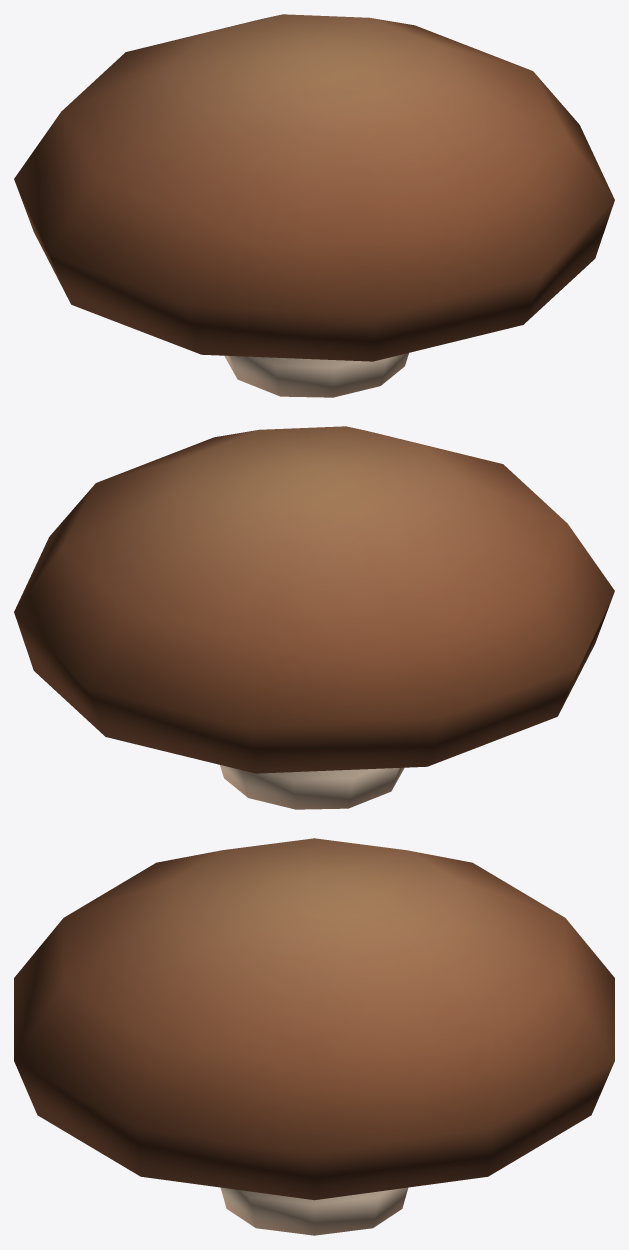
Rendered from Mushroom_Portobello.fbx.
The picture shows the model from 3 angles, top to bottom: view 1: azimuth 30°, elevation 25°; view 2: azimuth 150°, elevation 25°; view 3: azimuth 270°, elevation 25°; orthographic projection. The views are drawn at different scales.
Parts seen in each view (by area): view 1: Mushroom_Portobello; view 2: Mushroom_Portobello; view 3: Mushroom_Portobello.
Part boxes in pixels (bbox=[...]): Mushroom_Portobello: bbox=[14, 14, 614, 397]; Mushroom_Portobello: bbox=[14, 426, 614, 809]; Mushroom_Portobello: bbox=[14, 838, 614, 1235].
Size of the model in its own units: 51.97 by 28.35 by 49.25.
